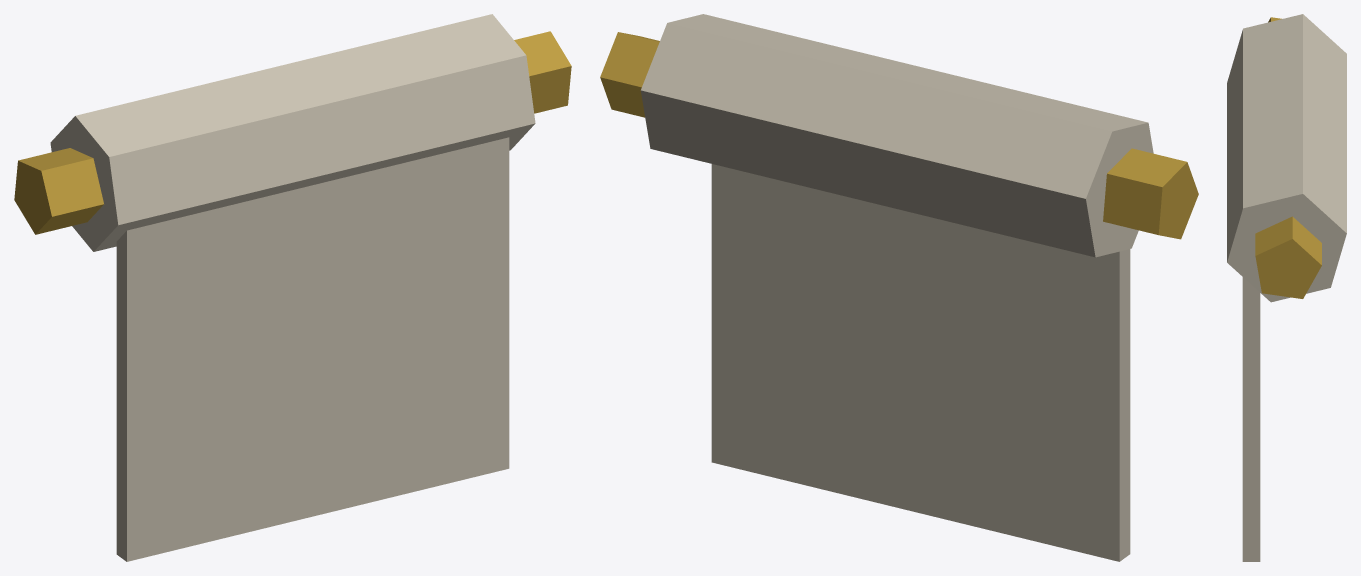
Rendered from gear_scroll.glb.
The picture shows the model from 3 angles, left to right: view 1: azimuth 30°, elevation 25°; view 2: azimuth 150°, elevation 25°; view 3: azimuth 270°, elevation 25°; orthographic projection. The views are drawn at different scales.
Visible parts, largest first — view 1: gear_scroll; view 2: gear_scroll; view 3: gear_scroll.
Boxes of the visible parts, <box> form: gear_scroll: <box>14,14,571,561</box>; gear_scroll: <box>600,14,1198,561</box>; gear_scroll: <box>1227,14,1346,561</box>.
Size of the model in its own units: 0.18 by 0.1403 by 0.0406.
